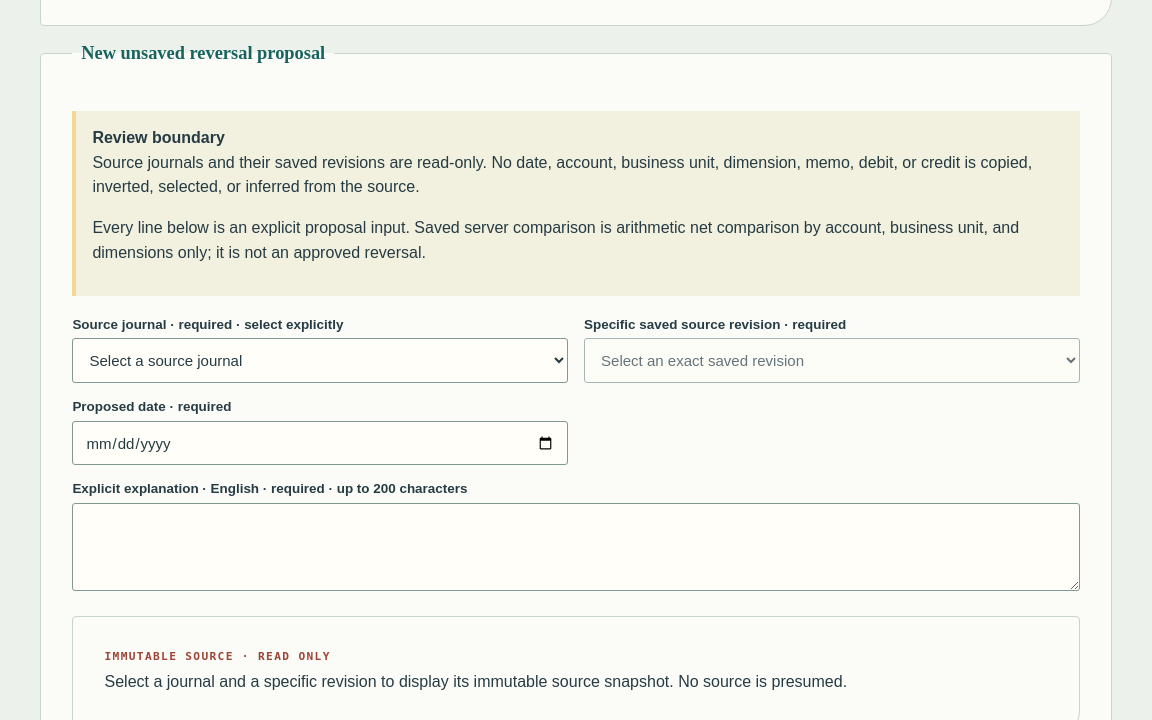
it: late journal detail response cannot restore a source after a newer explicit selection
The width and height of the screenshot is (1152, 720).
(page scrolled)
Select "Journal 71 · Source journal 71 · current revision 2 · journal" in the dropdown named "Source journal" at (320, 361), box [72, 338, 568, 383]
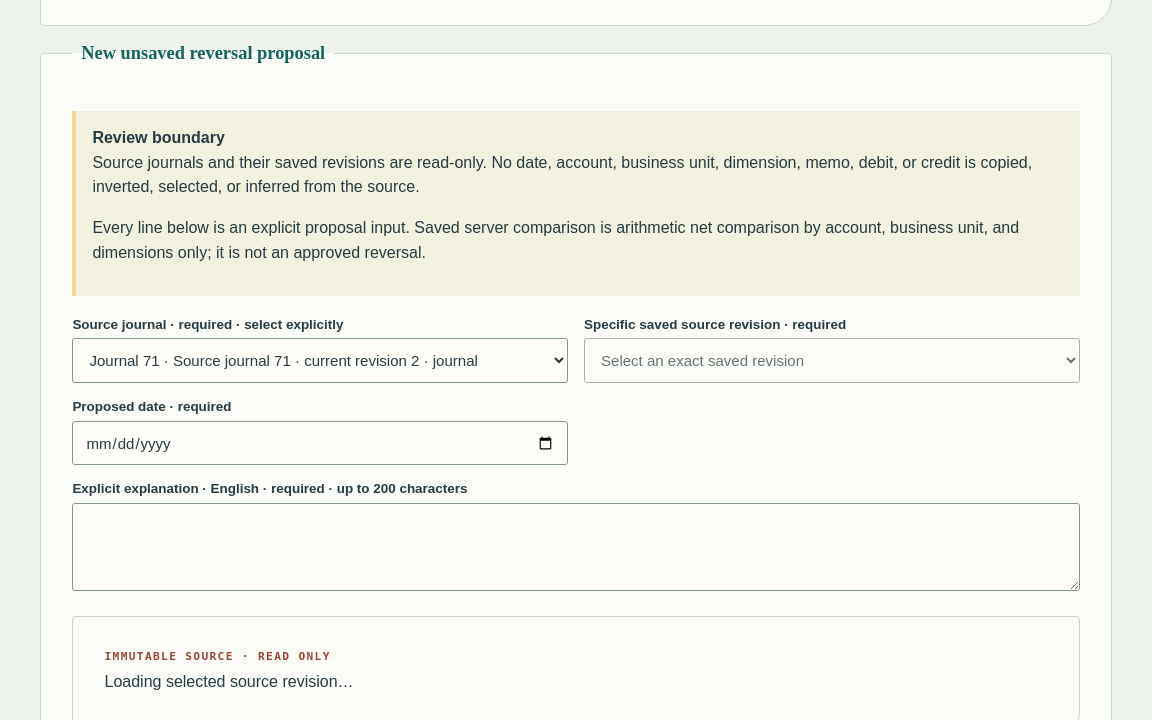
Select "Journal 72 · Source journal 72 · current revision 1 · journal" in the dropdown named "Source journal" at (320, 361), box [72, 338, 568, 383]
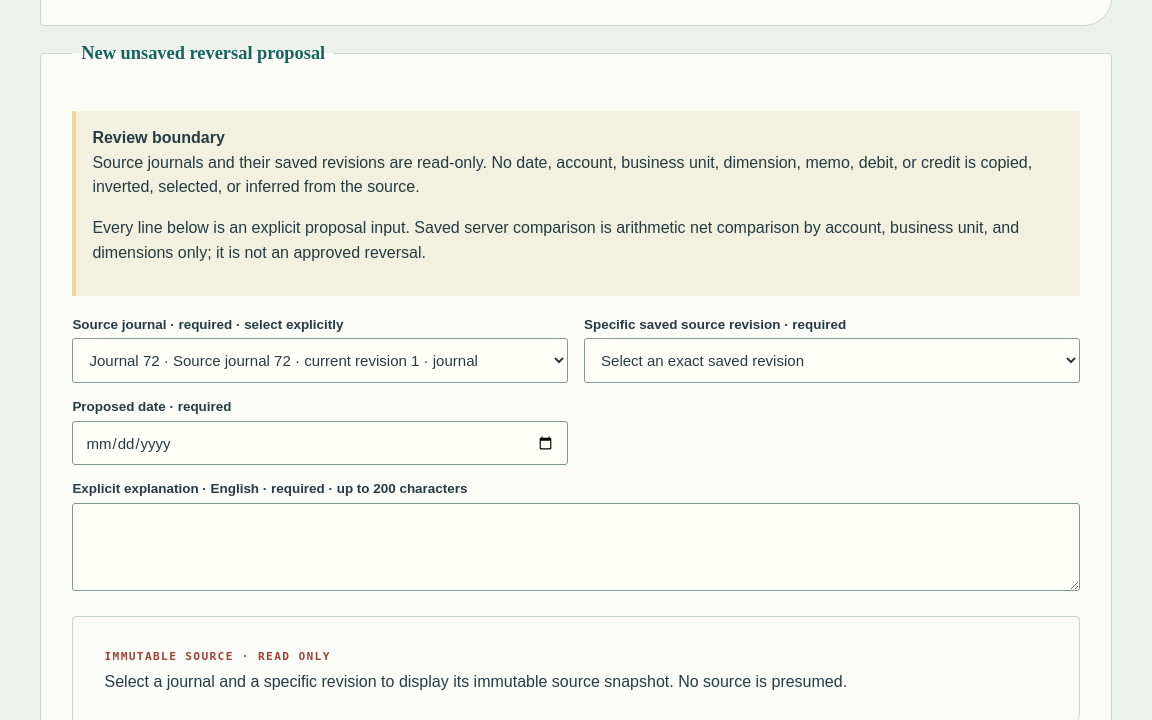
Select "Revision 1" in the dropdown named "Source revision" at (832, 361), box [584, 338, 1080, 383]
(page scrolled)
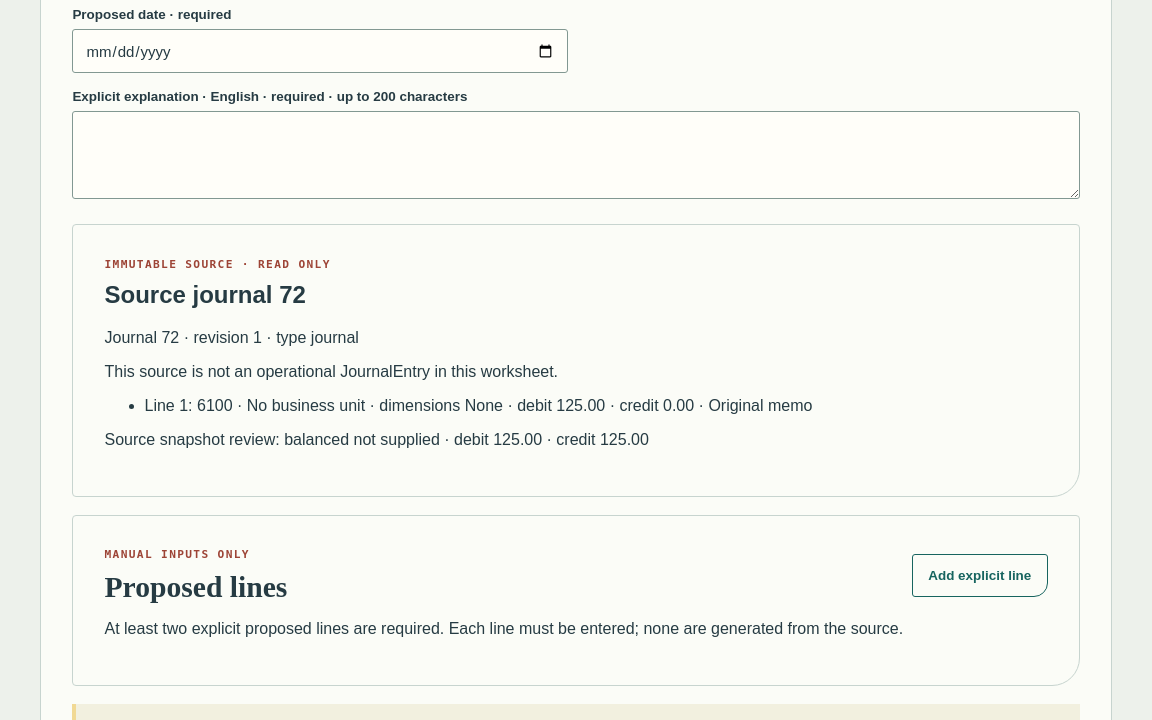
Expected: the element named "Read-only source journal snapshot" does not show "Source journal 71"
Expected: the element named "Read-only source journal snapshot" shows "Source journal 72", [104, 281, 306, 308]
